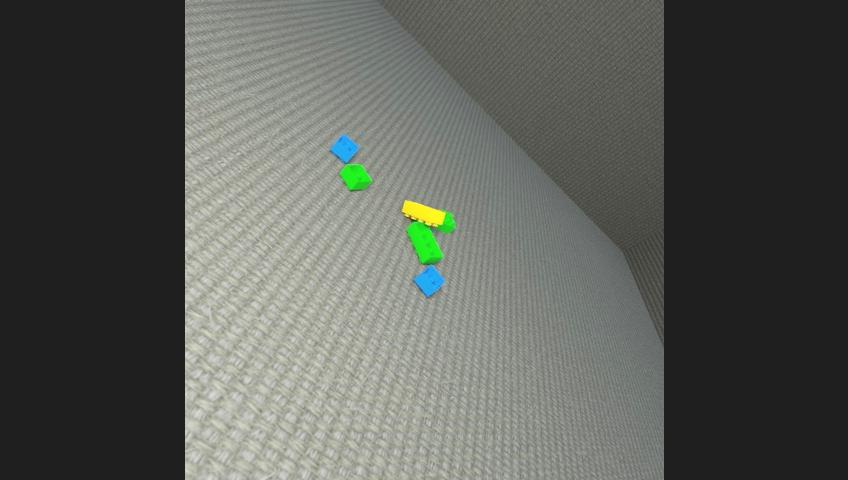2x2_blue: (412, 264, 445, 296), (330, 134, 359, 162)
2x2_green: (340, 164, 372, 188), (435, 211, 455, 234)
4x2_green: (405, 222, 442, 264)
4x2_yellow: (401, 200, 444, 225)
